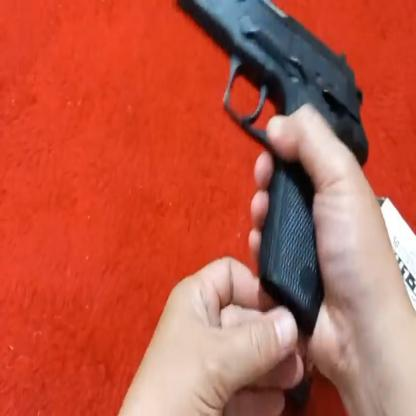handgun: (177, 0, 369, 274)
